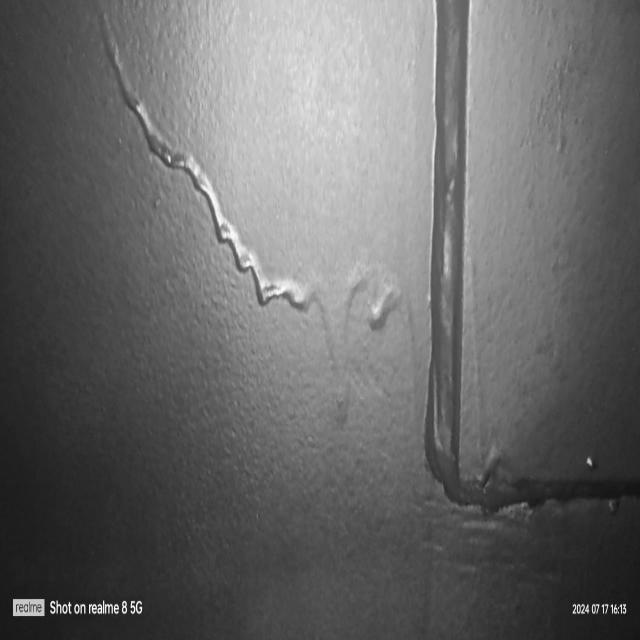paint drips: (87, 0, 420, 469)
